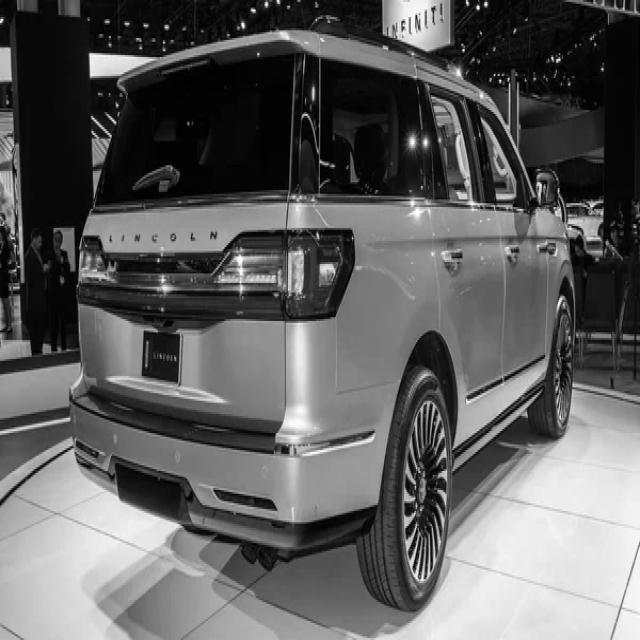Car: (69, 27, 577, 610)
